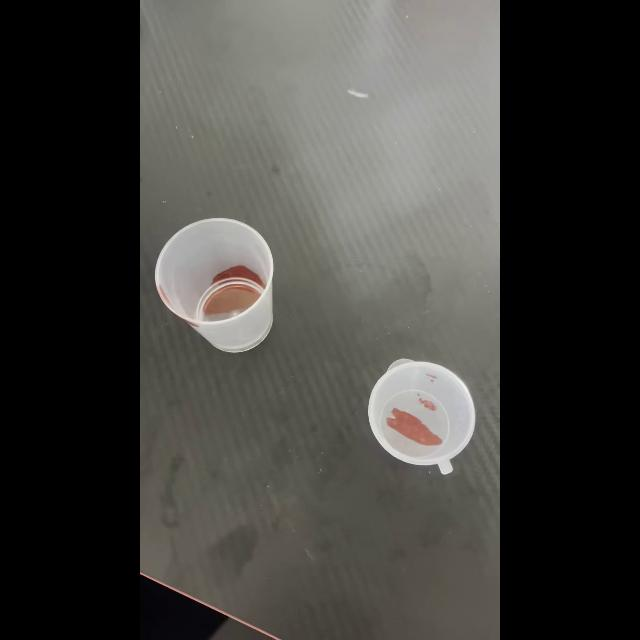dirty: (153, 218, 275, 352), (367, 359, 477, 471)
